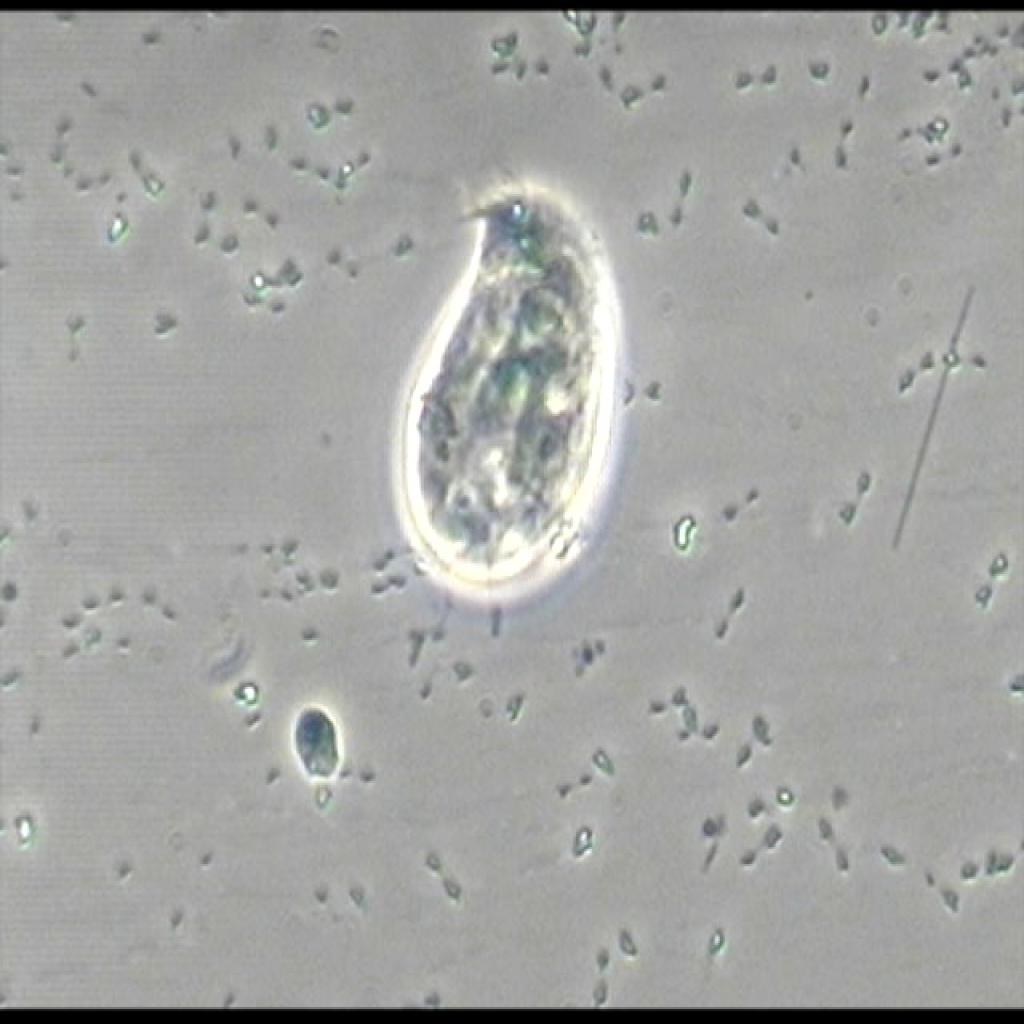Chilodonella: (374, 158, 636, 627)
